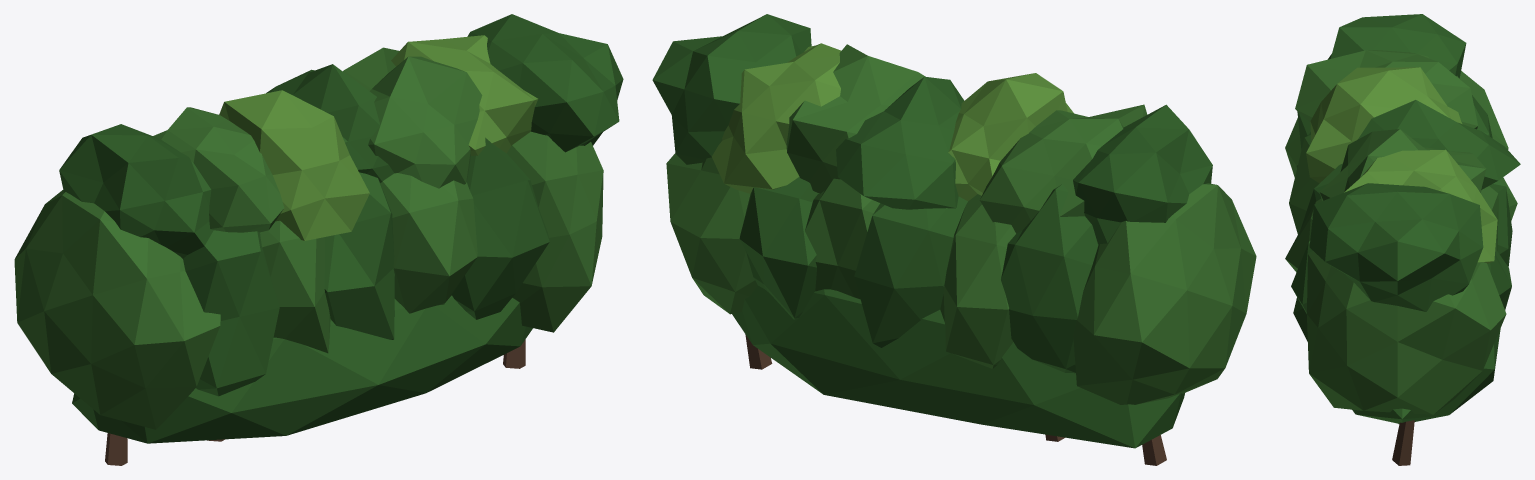
Rendered from hedge.glb.
3 views of the same model, side by side, from view 1: azimuth 30°, elevation 25°; view 2: azimuth 150°, elevation 25°; view 3: azimuth 270°, elevation 25° (orthographic). The views are drawn at different scales.
Visible parts, largest first — view 1: Hedge; view 2: Hedge; view 3: Hedge.
Part boxes in pixels (<box>): Hedge: <box>14,14,623,465</box>; Hedge: <box>652,14,1256,465</box>; Hedge: <box>1285,14,1520,465</box>.
Size of the model in its own units: 3.35 by 1.89 by 1.38.
